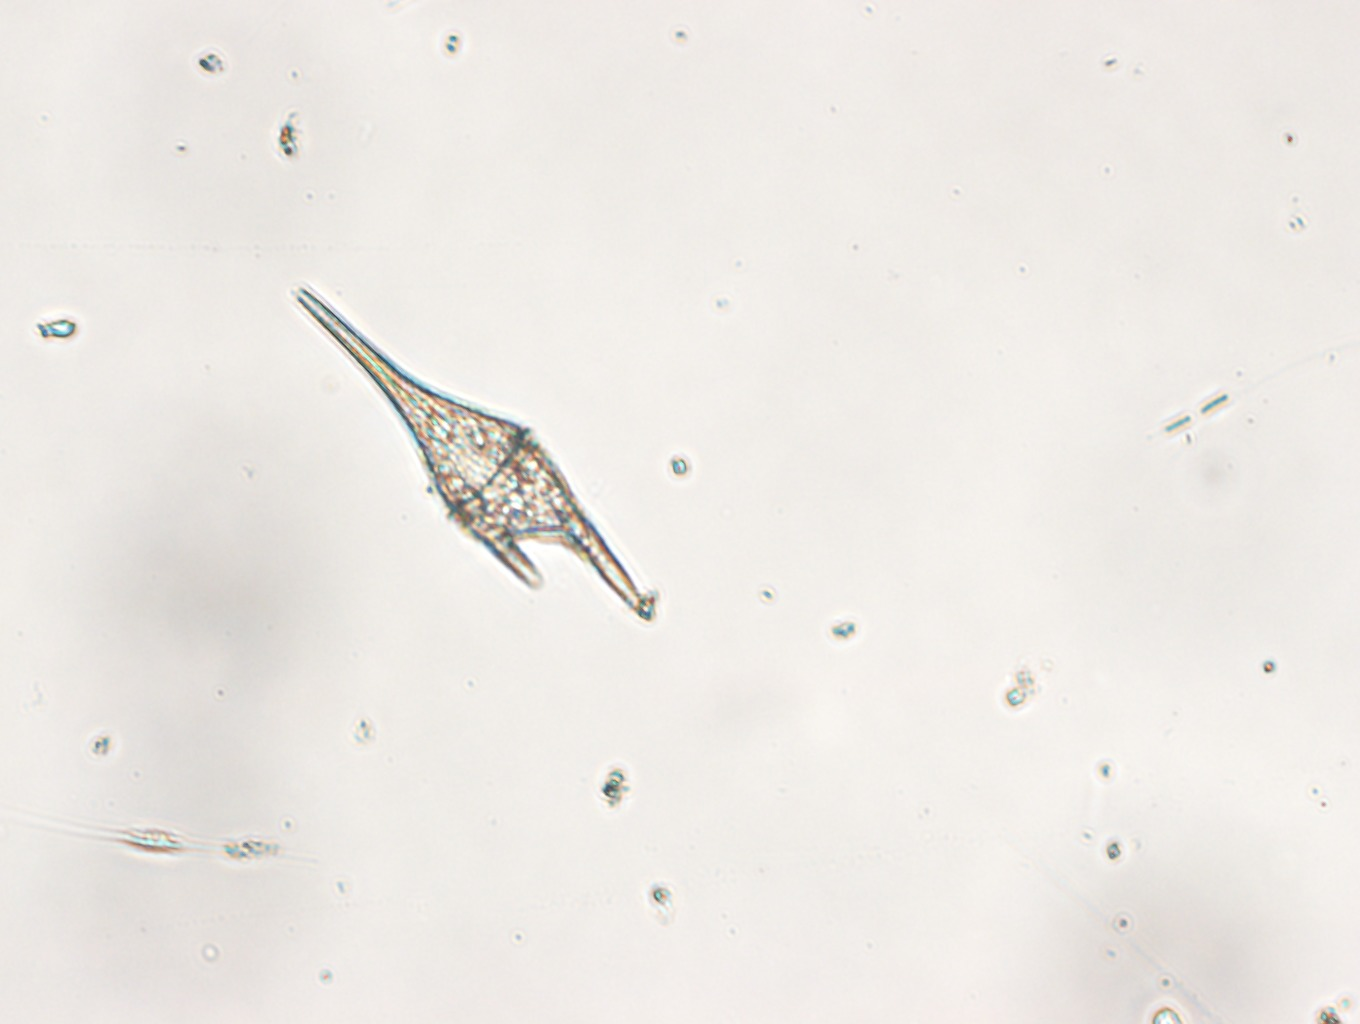ceratium furca: (290, 275, 670, 620)
